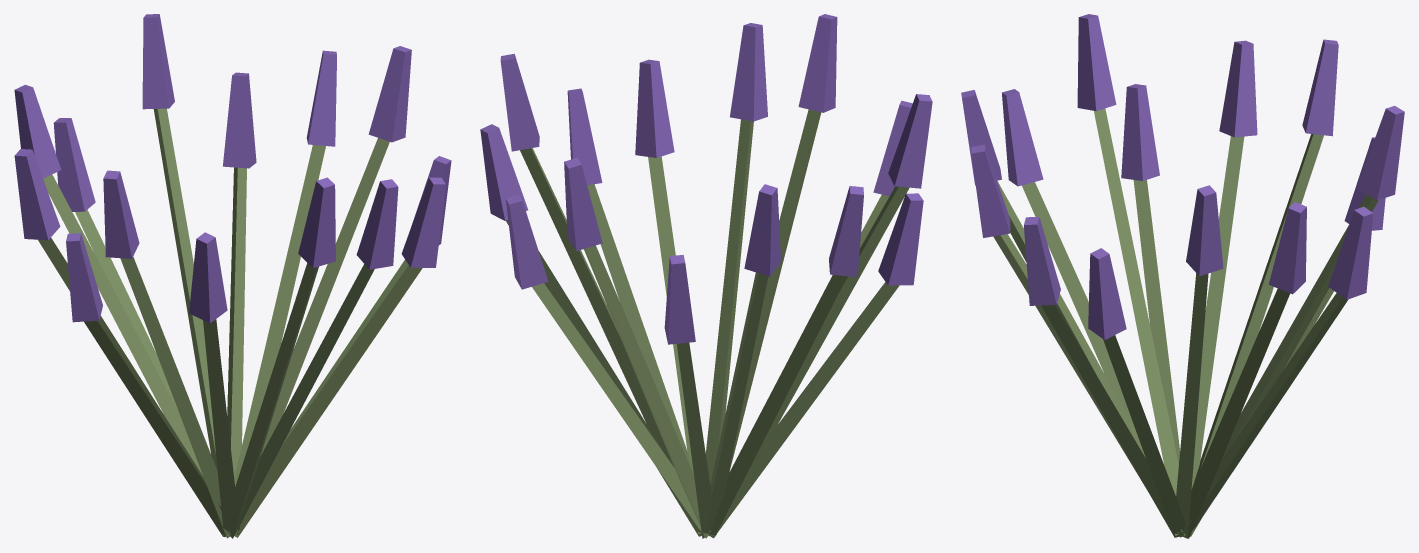
The model's file is lavande.glb.
3 renders of one model, left to right at view 1: azimuth 30°, elevation 25°; view 2: azimuth 150°, elevation 25°; view 3: azimuth 270°, elevation 25°, orthographic. The views are drawn at different scales.
Parts seen in each view (by area): view 1: lavande; view 2: lavande; view 3: lavande.
Boxes of the visible parts, bbox=[...] form: lavande: bbox=[14, 14, 451, 538]; lavande: bbox=[480, 14, 932, 538]; lavande: bbox=[961, 14, 1404, 538].
Bounding box in the file's own units: 0.6789 × 0.7478 × 0.6816.
Materials: 1 (1 with a texture image).
